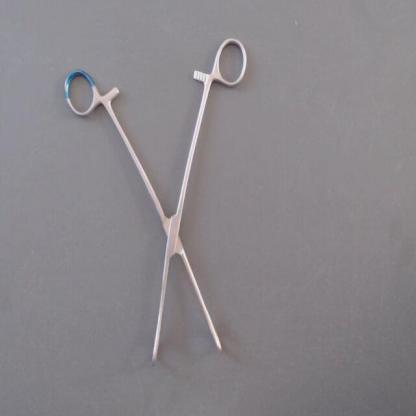Sponge Forceps: (56, 29, 253, 372)
